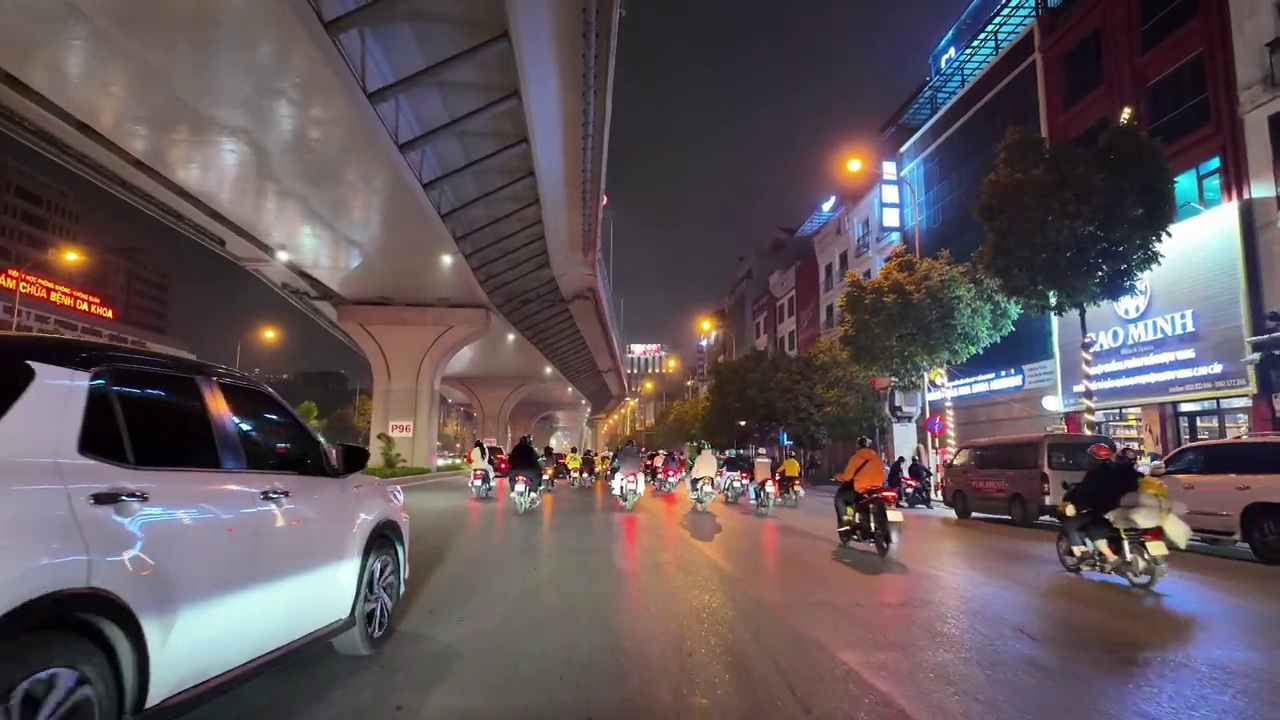acesa: (838, 150, 869, 180), (54, 244, 87, 269), (692, 311, 721, 339), (254, 322, 284, 348)
